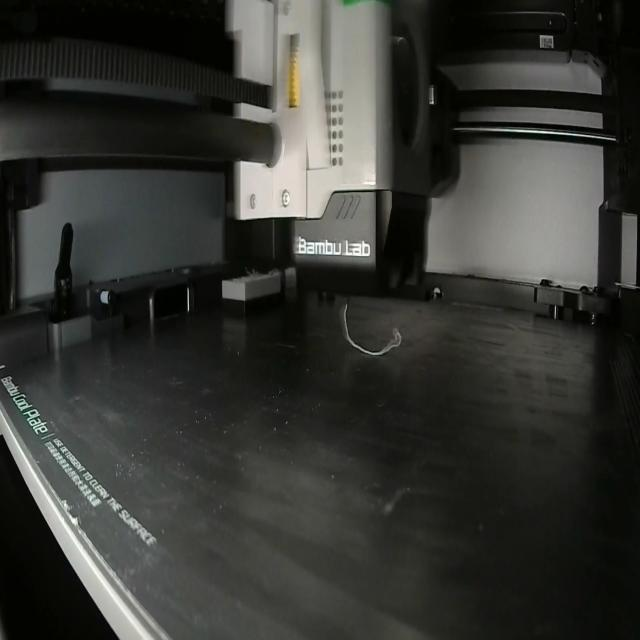spaghetti: (336, 290, 408, 378)
